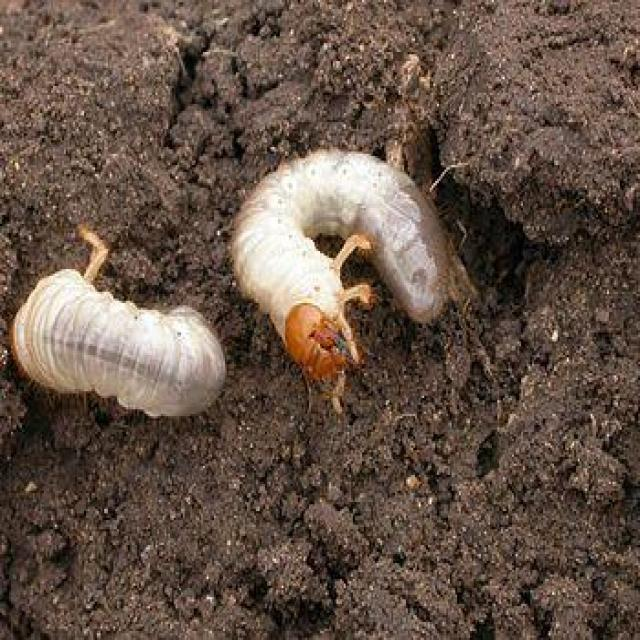Grub-Adult-: (230, 151, 453, 396), (11, 226, 233, 438)
